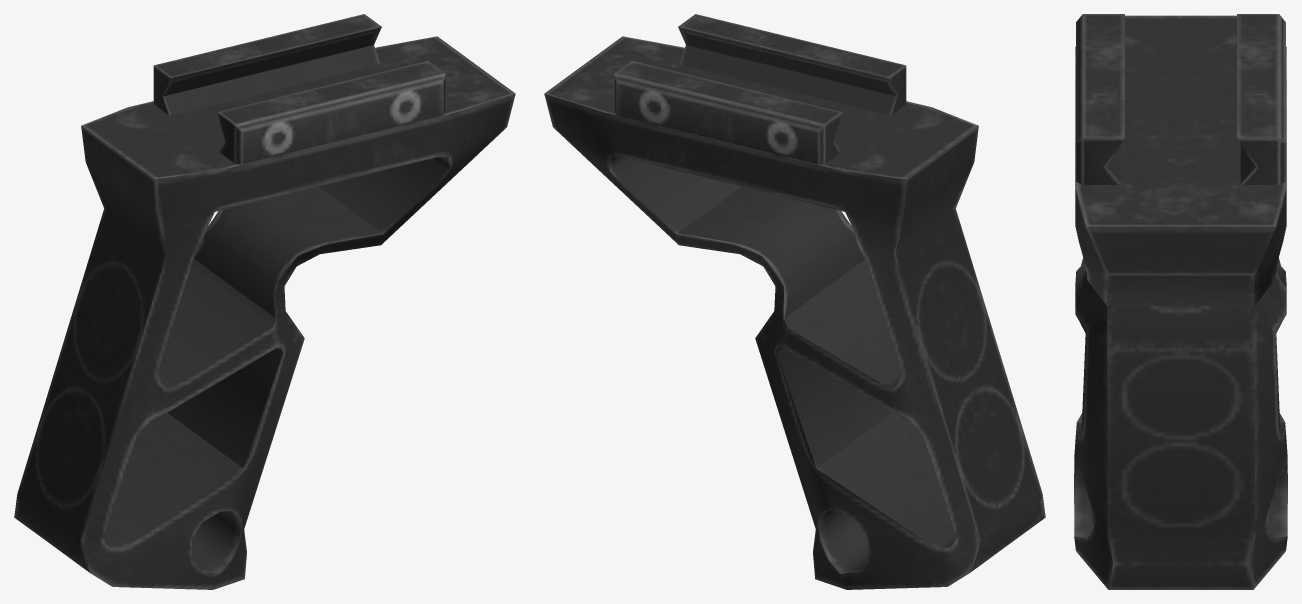
Rendered from ST_Grip_LightGrip.FBX.
3 views of the same model, side by side, from view 1: azimuth 30°, elevation 25°; view 2: azimuth 150°, elevation 25°; view 3: azimuth 270°, elevation 25° (orthographic). The views are drawn at different scales.
Visible parts, largest first — view 1: ST_Grip_LightGrip; view 2: ST_Grip_LightGrip; view 3: ST_Grip_LightGrip.
Part boxes in pixels (x1,y1,x2,y2): ST_Grip_LightGrip: (14, 14, 515, 589); ST_Grip_LightGrip: (544, 14, 1045, 589); ST_Grip_LightGrip: (1074, 14, 1287, 589).
Size of the model in its own units: 8.35 by 8.72 by 3.
1 material, 1 textured.
